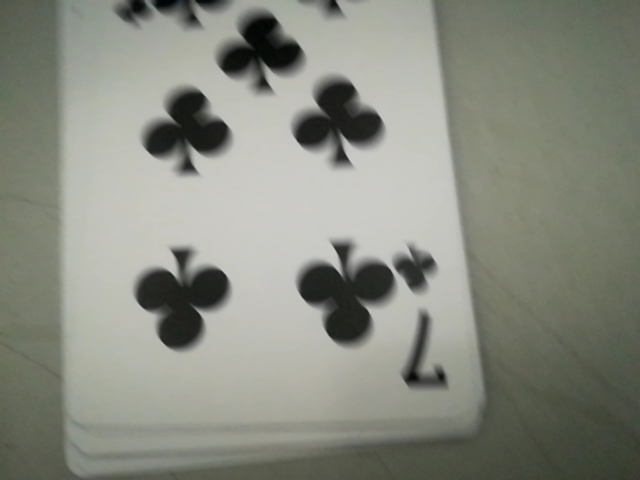mh 7: (395, 242, 450, 410)
